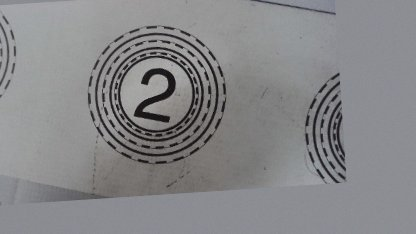2r: (77, 21, 232, 170)
